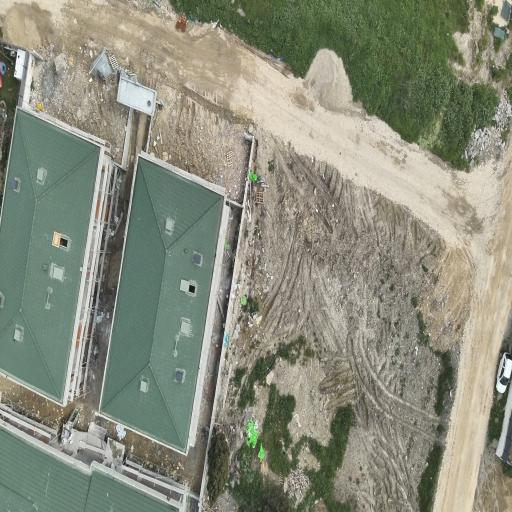car: (496, 352, 511, 392)
